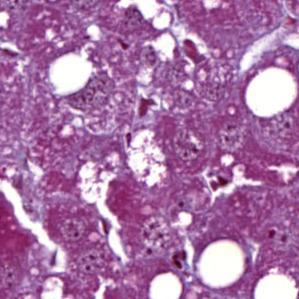steatosis: (243, 62, 299, 120), (195, 238, 250, 286)
